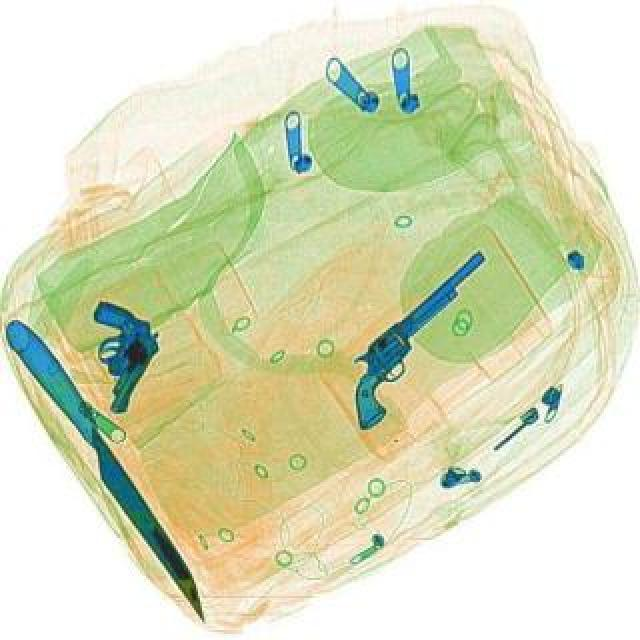gun: (316, 248, 526, 432), (56, 296, 168, 416)
knife: (0, 310, 220, 628)
